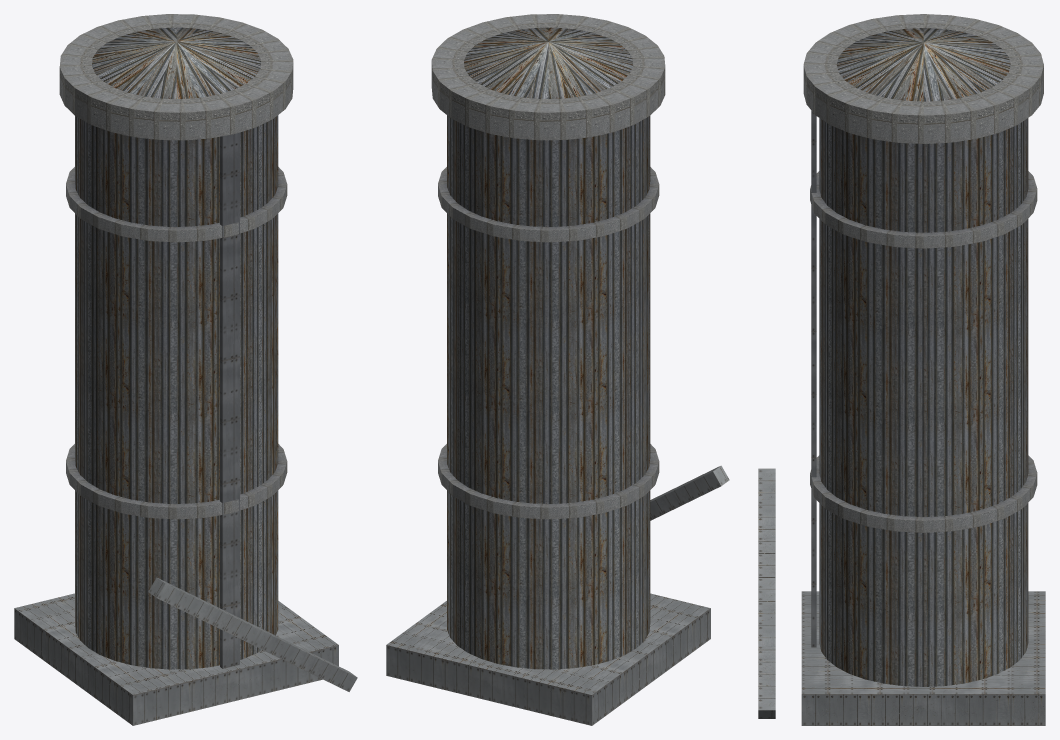
File: farm-silo-single_lod0.gltf
3 views of the same model, side by side, from view 1: azimuth 30°, elevation 25°; view 2: azimuth 150°, elevation 25°; view 3: azimuth 270°, elevation 25° (orthographic). The views are drawn at different scales.
Parts seen in each view (by area): view 1: farm-silo-single_cyl0, farm-silo-single__v4_cyl_crowns, farm-silo-single_base, farm-silo-single__ladder, farm-silo-single__cap, farm-silo-single__auger; view 2: farm-silo-single_cyl0, farm-silo-single__v4_cyl_crowns, farm-silo-single_base, farm-silo-single__cap, farm-silo-single__auger; view 3: farm-silo-single_cyl0, farm-silo-single__v4_cyl_crowns, farm-silo-single_base, farm-silo-single__cap, farm-silo-single__auger, farm-silo-single__ladder.
Boxes of the visible parts, x1=… form: farm-silo-single_cyl0: x1=75, y1=115, x2=278, y2=669; farm-silo-single__v4_cyl_crowns: x1=59, y1=14, x2=293, y2=519; farm-silo-single_base: x1=14, y1=593, x2=338, y2=725; farm-silo-single__ladder: x1=220, y1=132, x2=239, y2=668; farm-silo-single__cap: x1=92, y1=27, x2=260, y2=98; farm-silo-single__auger: x1=148, y1=577, x2=357, y2=691; farm-silo-single_cyl0: x1=447, y1=115, x2=650, y2=669; farm-silo-single__v4_cyl_crowns: x1=431, y1=14, x2=665, y2=519; farm-silo-single_base: x1=386, y1=593, x2=710, y2=725; farm-silo-single__cap: x1=464, y1=27, x2=633, y2=98; farm-silo-single__auger: x1=650, y1=465, x2=729, y2=520; farm-silo-single_cyl0: x1=819, y1=118, x2=1028, y2=686; farm-silo-single__v4_cyl_crowns: x1=803, y1=14, x2=1043, y2=532; farm-silo-single_base: x1=801, y1=591, x2=1045, y2=725; farm-silo-single__cap: x1=836, y1=28, x2=1010, y2=101; farm-silo-single__auger: x1=758, y1=468, x2=775, y2=718; farm-silo-single__ladder: x1=811, y1=111, x2=816, y2=647.
Size of the model in its own units: 7 by 20 by 8.25.
